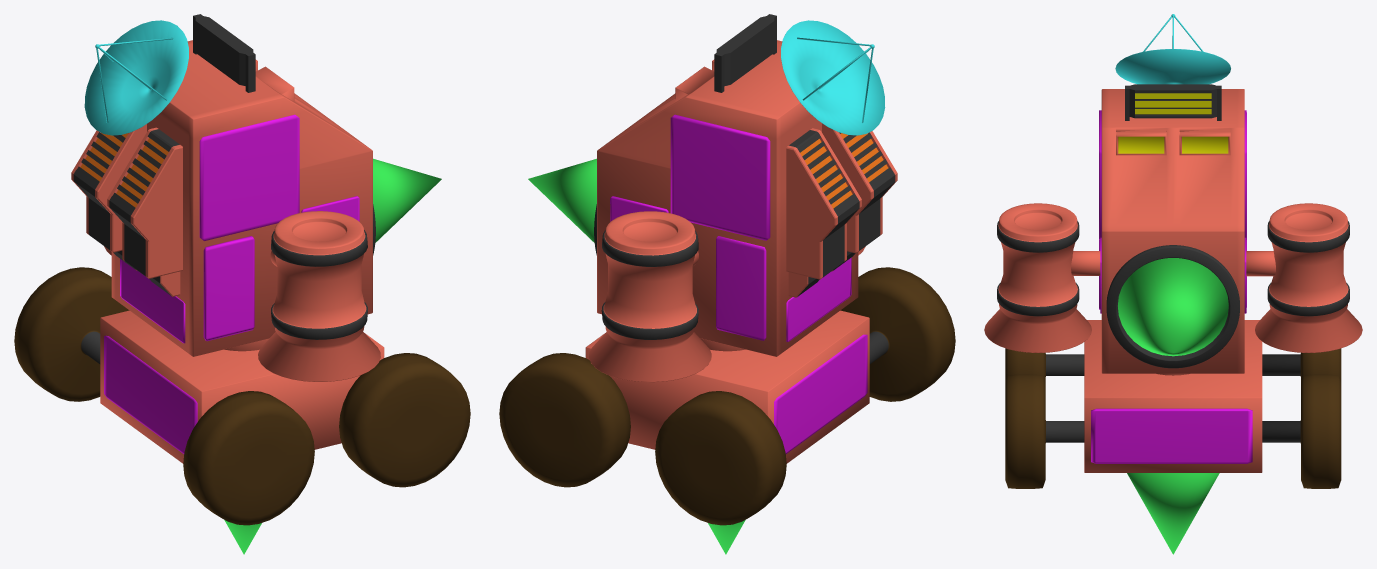
The model's file is DrillCraft.fbx.
3 views of the same model, side by side, from view 1: azimuth 30°, elevation 25°; view 2: azimuth 150°, elevation 25°; view 3: azimuth 270°, elevation 25° (orthographic). The views are drawn at different scales.
Visible parts, largest first — view 1: MainBody, RightRocket, Wheel_BR, Wheel_FR, BottomBody, Armour Plate.002, Wheel_BL, HeatVent.001, Dish, Armour Plate.005, Armour Plate.007, HeatVent (+5 smaller); view 2: MainBody, LeftRocket, Wheel_BL, Wheel_FL, BottomBody, Armour Plate, Wheel_BR, HeatVent, Dish, Armour Plate.005, Armour Plate.008, HeatVent.001 (+5 smaller); view 3: MainBody, RightRocket, LeftRocket, BottomBody, Armour Plate.004, SideDrill, Wheel_FL, Wheel_FR, FrontDrillPort, BottomDrill, Dish, AdvancedLight (+4 smaller).
Boxes of the visible parts, x1,y1,x2,y2 form: MainBody: (111, 40, 372, 356); RightRocket: (258, 211, 380, 381); Wheel_BR: (183, 391, 314, 525); Wheel_FR: (339, 353, 470, 487); BottomBody: (100, 310, 384, 463); Armour Plate.002: (199, 114, 299, 240); Wheel_BL: (14, 267, 129, 401); HeatVent.001: (107, 127, 182, 296); Dish: (84, 20, 188, 135); Armour Plate.005: (104, 335, 197, 453); Armour Plate.007: (203, 236, 254, 341); HeatVent: (71, 124, 146, 270); MainBody: (597, 40, 858, 356); LeftRocket: (589, 211, 711, 382); Wheel_BL: (655, 391, 786, 525); Wheel_FL: (499, 353, 630, 487); BottomBody: (585, 310, 869, 463); Armour Plate: (670, 114, 770, 240); Wheel_BR: (840, 267, 955, 401); HeatVent: (786, 128, 861, 297); Dish: (781, 20, 885, 135); Armour Plate.005: (774, 334, 867, 453); Armour Plate.008: (716, 236, 766, 340); HeatVent.001: (822, 123, 897, 271); MainBody: (1101, 89, 1244, 373); RightRocket: (984, 203, 1091, 352); LeftRocket: (1255, 203, 1362, 352); BottomBody: (1084, 320, 1262, 472); Armour Plate.004: (1091, 408, 1252, 463); SideDrill: (1118, 258, 1228, 356); Wheel_FL: (1262, 374, 1341, 488); Wheel_FR: (1005, 374, 1084, 488); FrontDrillPort: (1106, 245, 1239, 368); BottomDrill: (1127, 473, 1219, 554); Dish: (1115, 49, 1230, 84); AdvancedLight: (1125, 84, 1221, 120).
Bounding box in the file's own units: 269 × 405 × 291.
